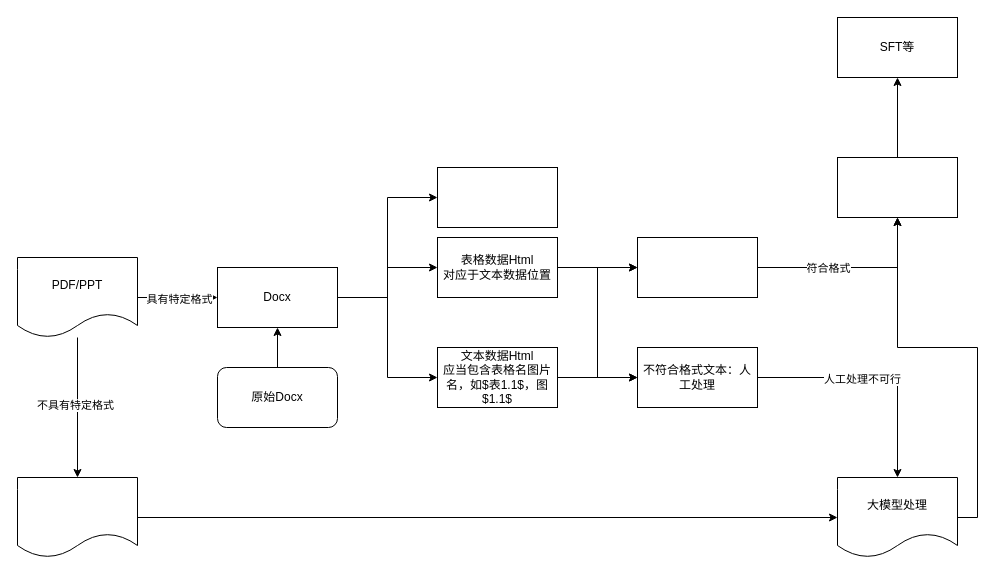
This 1003x575 diagram has some shape labels left out. The shapes that lost their labels are listed below. From the top down, each one's centre as x and y in pixels, then its label:
[497,197]: 图片数据
[897,187]: 最终json结果
[697,267]: 正则化判断，分类符符合格式文本
[77,517]: Docx/PDF/jpg
